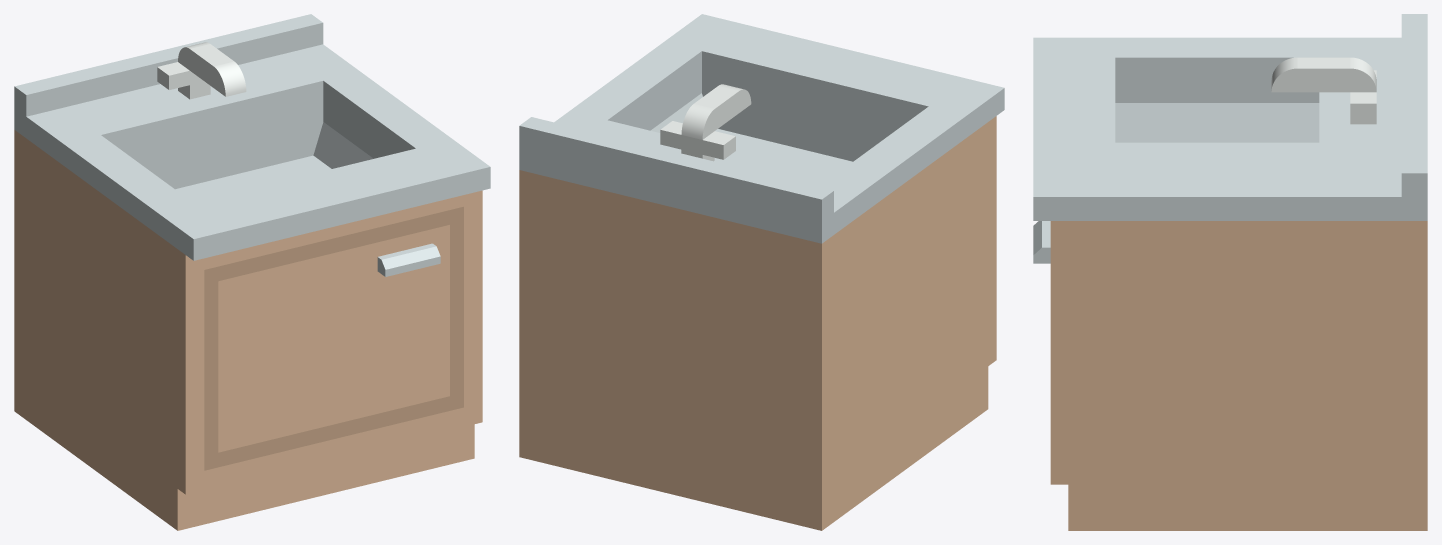
Rendered from kitchenSink.glb.
3 renders of one model, left to right at view 1: azimuth 30°, elevation 25°; view 2: azimuth 150°, elevation 25°; view 3: azimuth 270°, elevation 25°, orthographic. The views are drawn at different scales.
Parts seen in each view (by area): view 1: kitchenSink; view 2: kitchenSink; view 3: kitchenSink.
Part boxes in pixels (<box>): kitchenSink: <box>14,14,490,530</box>; kitchenSink: <box>519,14,1004,530</box>; kitchenSink: <box>1033,14,1427,530</box>.
Size of the model in its own units: 0.4301 by 0.49 by 0.45.
